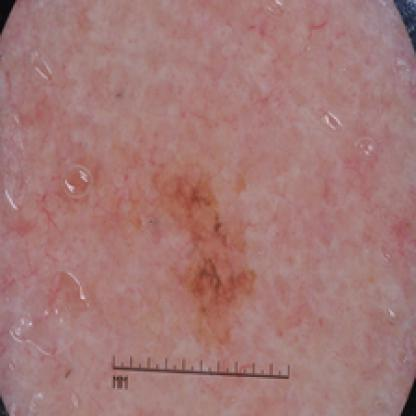malignant: (121, 156, 267, 321)
